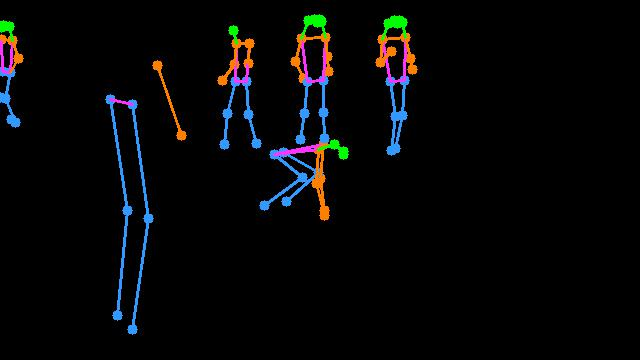normal: (364, 7, 425, 158), (209, 17, 270, 156), (286, 11, 339, 149)
